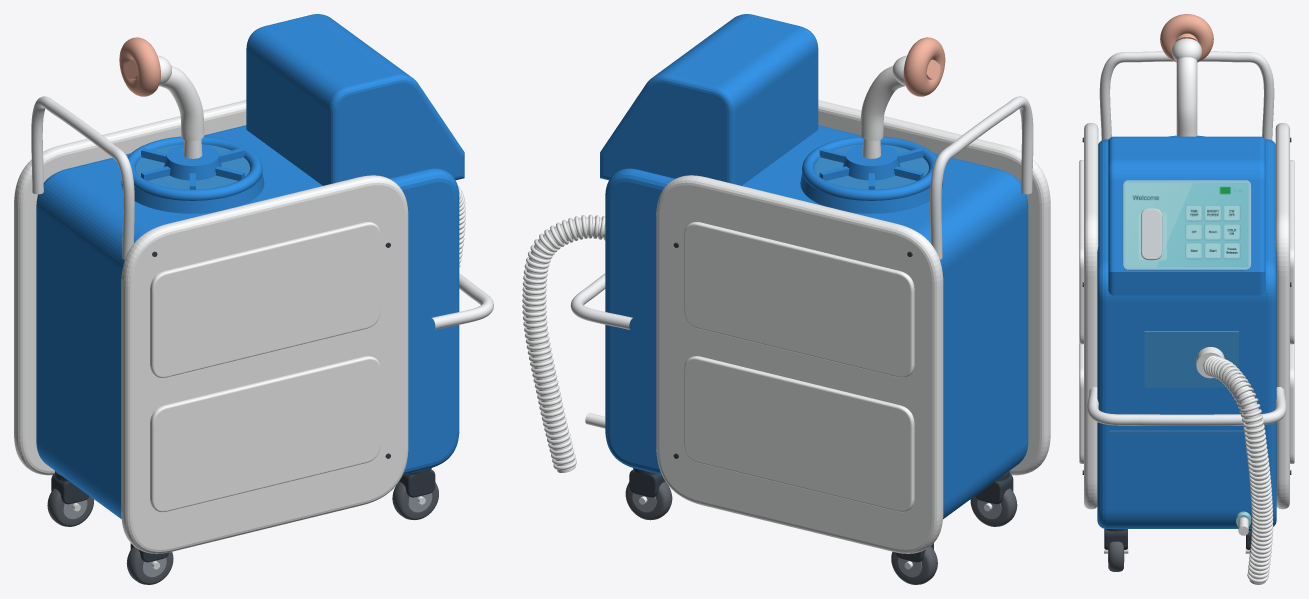
Rendered from sereva-02.glb.
The picture shows the model from 3 angles, left to right: view 1: azimuth 30°, elevation 25°; view 2: azimuth 150°, elevation 25°; view 3: azimuth 270°, elevation 25°; orthographic projection. The views are drawn at different scales.
Visible parts, largest first — view 1: body_core, side_shell_L, control_head, side_panel_L1, side_panel_L2, side_shell_R, rear_handle, tank_rim, caster_wheel (×3), tank_base, sleeve, handpiece_body (+4 smaller); view 2: body_core, side_shell_R, control_head, side_panel_R1, side_panel_R2, side_shell_L, rear_handle, tank_rim, caster_wheel (×3), hose_tube, tank_base, sleeve (+5 smaller); view 3: body_core, control_head, panel_glass, side_shell_L, side_shell_R, port_recess, rear_handle, tray_handle, handpiece_body, panel_bezel, sleeve, hose_tube (+10 smaller).
Boxes of the visible parts, x1=… form: body_core: x1=36, y1=125, x2=459, y2=518; side_shell_L: x1=121, y1=175, x2=408, y2=553; control_head: x1=246, y1=14, x2=464, y2=185; side_panel_L1: x1=150, y1=222, x2=380, y2=377; side_panel_L2: x1=150, y1=356, x2=380, y2=512; side_shell_R: x1=14, y1=100, x2=246, y2=475; rear_handle: x1=31, y1=96, x2=134, y2=259; tank_rim: x1=127, y1=136, x2=262, y2=200; caster_wheel (×3): x1=47, y1=482, x2=438, y2=584; tank_base: x1=121, y1=173, x2=264, y2=213; sleeve: x1=119, y1=37, x2=160, y2=96; handpiece_body: x1=159, y1=66, x2=204, y2=140; body_core: x1=605, y1=125, x2=1028, y2=518; side_shell_R: x1=656, y1=175, x2=943, y2=553; control_head: x1=600, y1=14, x2=818, y2=185; side_panel_R1: x1=684, y1=222, x2=914, y2=377; side_panel_R2: x1=684, y1=356, x2=914, y2=512; side_shell_L: x1=818, y1=100, x2=1050, y2=475; rear_handle: x1=930, y1=96, x2=1033, y2=259; tank_rim: x1=802, y1=136, x2=936, y2=200; caster_wheel (×3): x1=625, y1=482, x2=1017, y2=584; hose_tube: x1=525, y1=217, x2=605, y2=472; tank_base: x1=800, y1=173, x2=942, y2=213; sleeve: x1=903, y1=37, x2=945, y2=96; body_core: x1=1097, y1=139, x2=1276, y2=528; control_head: x1=1108, y1=136, x2=1265, y2=295; panel_glass: x1=1125, y1=183, x2=1248, y2=267; side_shell_L: x1=1084, y1=123, x2=1098, y2=509; side_shell_R: x1=1275, y1=123, x2=1289, y2=509; port_recess: x1=1144, y1=331, x2=1238, y2=387; rear_handle: x1=1099, y1=51, x2=1274, y2=140; tray_handle: x1=1087, y1=387, x2=1286, y2=425; handpiece_body: x1=1176, y1=57, x2=1197, y2=136; panel_bezel: x1=1122, y1=180, x2=1251, y2=270; sleeve: x1=1160, y1=14, x2=1213, y2=62; hose_tube: x1=1203, y1=359, x2=1268, y2=584.
Bounding box in the file's own units: 0.9451 × 1.06 × 0.456.
Materials: 17 (1 with a texture image).
